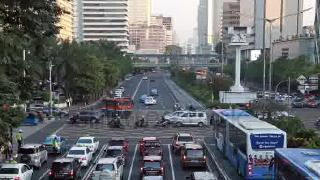mobil: (216, 113, 288, 179), (17, 144, 48, 168), (49, 158, 81, 180), (91, 158, 122, 180), (181, 145, 207, 171), (1, 160, 34, 180), (140, 156, 164, 178), (66, 146, 90, 168), (177, 112, 209, 128), (104, 145, 128, 165), (172, 134, 194, 154), (76, 136, 100, 154), (70, 112, 102, 124), (142, 144, 164, 160), (139, 138, 161, 154)
motor: (108, 116, 125, 132), (134, 116, 148, 130), (154, 118, 168, 128)
